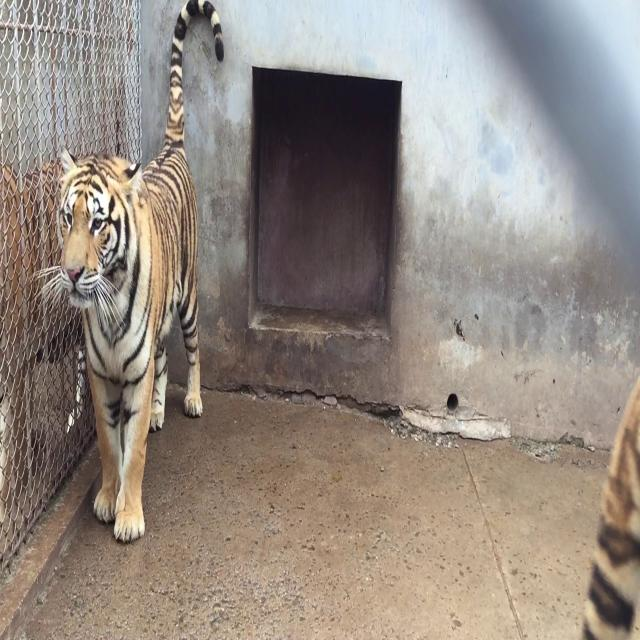Tiger: (31, 6, 269, 574)
